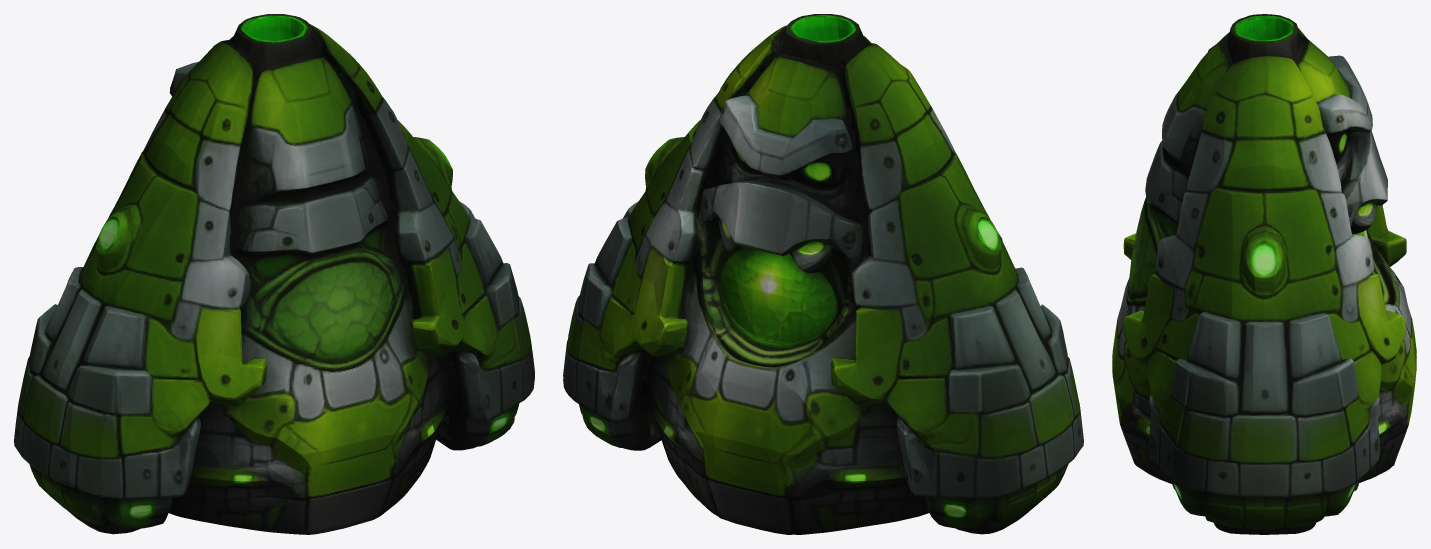
File: squash.fbx
The picture shows the model from 3 angles, left to right: view 1: azimuth 30°, elevation 25°; view 2: azimuth 150°, elevation 25°; view 3: azimuth 270°, elevation 25°; orthographic projection. The views are drawn at different scales.
Parts seen in each view (by area): view 1: geometry_0.005; view 2: geometry_0.005; view 3: geometry_0.005.
Part boxes in pixels (x1,y1,x2,y2): geometry_0.005: (14,14,534,534); geometry_0.005: (563,14,1083,534); geometry_0.005: (1112,14,1416,534).
Bounding box in the file's own units: 0.9997 × 0.584 × 0.8928.
